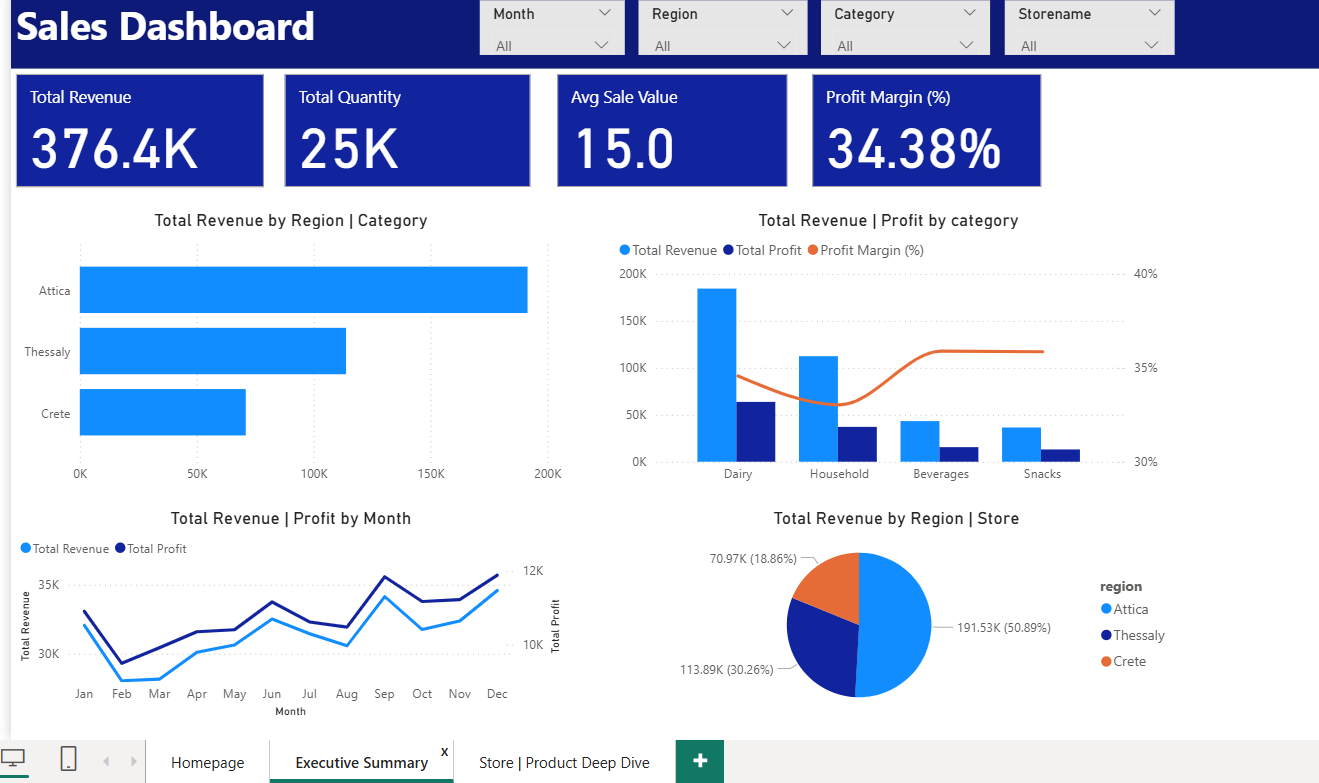

What the dashboard file says about the page in this screenshot:
{"tool":"powerbi","page":{"name":"Executive Summary","canvas":[1280,720],"ordinal":1},"visuals":[{"type":"barChart","title":"Total Revenue by Region | Category","fields":{"Y":["public factsales.Total Revenue"],"Category":["public dimstore.region","public dimproduct.category"]},"box":[3.6,207.5,533.2,273.9],"z":0},{"type":"lineClusteredColumnComboChart","title":"Total Revenue | Profit by category","fields":{"Category":["public dimproduct.category"],"Y":["public factsales.Total Revenue","public factsales.Total Profit"],"Y2":["public factsales.Profit Margin (%)"]},"box":[581.5,207.5,530.8,273.9],"z":1000},{"type":"cardVisual","fields":{"Data":["public factsales.Total Quantity_f"]},"box":[259.4,72.4,247.3,119.4],"z":2000},{"type":"cardVisual","fields":{"Data":["public factsales.Avg Sale Value_f"]},"box":[522.4,72.4,232.8,119.4],"z":3000},{"type":"cardVisual","fields":{"Data":["public factsales.Profit Margin_f (%)"]},"box":[768.5,72.4,231.6,119.4],"z":4000},{"type":"cardVisual","fields":{"Data":["public factsales.Total Revenue"]},"box":[0,72.4,249.7,119.4],"z":5000},{"type":"lineChart","title":"Total Revenue | Profit by Month","fields":{"Y":["public factsales.Total Revenue"],"Category":["public dimdate.MonthName"],"Y2":["public factsales.Total Profit"]},"box":[3.6,495.8,533.2,207.5],"z":6000},{"type":"pieChart","title":"Total Revenue by Region | Store","fields":{"Category":["public dimstore.region","public dimstore.storename"],"Y":["public factsales.Total Revenue"]},"box":[581.5,495.8,546.5,207.5],"z":7000},{"type":"textbox","box":[0,0,1280,72.4],"z":8000},{"type":"slicer","fields":{"Values":["public dimdate.MonthName"]},"box":[452.4,6,139.9,53.1],"z":9000},{"type":"slicer","fields":{"Values":["public dimstore.region"]},"box":[605.6,6,162.9,53.1],"z":10000},{"type":"slicer","fields":{"Values":["public dimproduct.category"]},"box":[781.8,6,162.9,53.1],"z":11000},{"type":"slicer","fields":{"Values":["public dimstore.storename"]},"box":[959.1,6,164.1,53.1],"z":12000}]}

Visuals, with their boxes on the page's 1280x720 design canvas (x1, y1, x2, y2). These are canvas units, not pixel positions in the 1319x783 screenshot, which may show the page scaled, cropped or inside an application window:
"Total Revenue by Region | Category" barChart: l=4, t=208, r=537, b=481
"Total Revenue | Profit by category" lineClusteredColumnComboChart: l=582, t=208, r=1112, b=481
cardVisual - public factsales.Total Quantity_f: l=259, t=72, r=507, b=192
cardVisual - public factsales.Avg Sale Value_f: l=522, t=72, r=755, b=192
cardVisual - public factsales.Profit Margin_f (%): l=768, t=72, r=1000, b=192
cardVisual - public factsales.Total Revenue: l=0, t=72, r=250, b=192
"Total Revenue | Profit by Month" lineChart: l=4, t=496, r=537, b=703
"Total Revenue by Region | Store" pieChart: l=582, t=496, r=1128, b=703
textbox: l=0, t=0, r=1280, b=72
slicer - public dimdate.MonthName: l=452, t=6, r=592, b=59
slicer - public dimstore.region: l=606, t=6, r=768, b=59
slicer - public dimproduct.category: l=782, t=6, r=945, b=59
slicer - public dimstore.storename: l=959, t=6, r=1123, b=59
